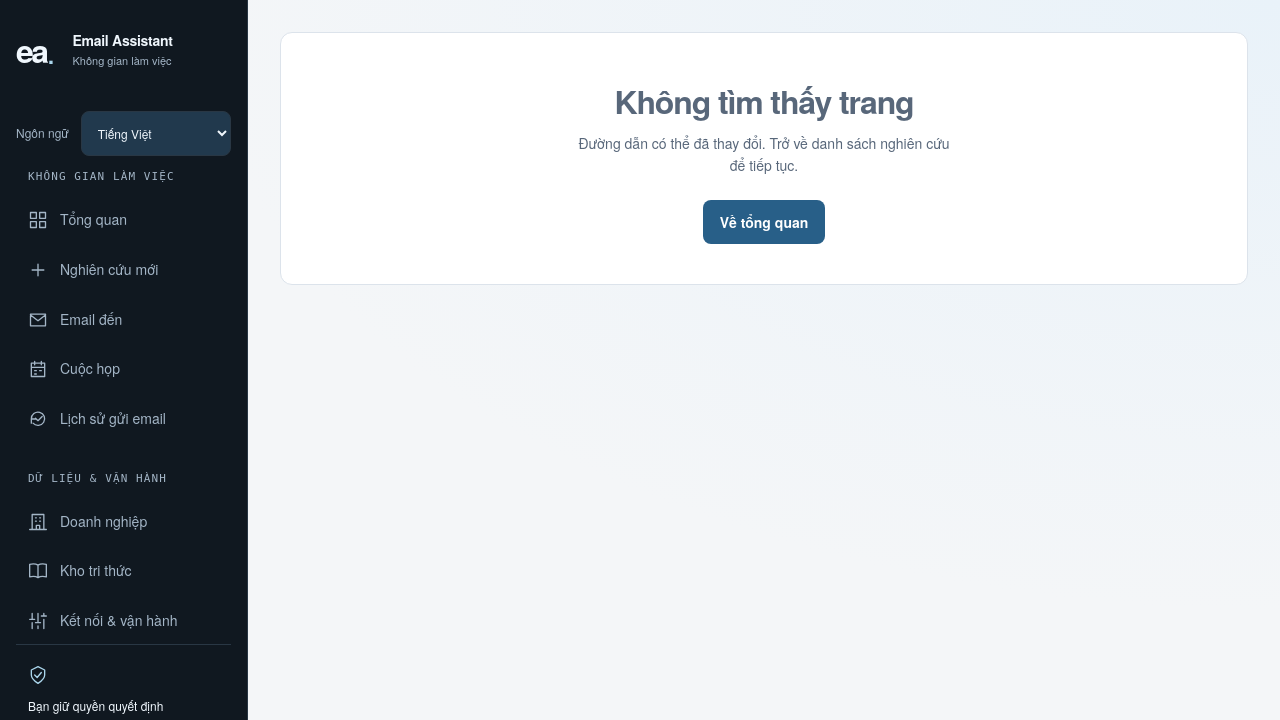
Scenario: navigation menu keyboard behavior › offers a route back from an unknown URL
Check: the heading "Không tìm thấy trang" is shown, box [614, 78, 914, 124]
Click the link "Về tổng quan".
click(764, 222)  # box [703, 200, 825, 244]
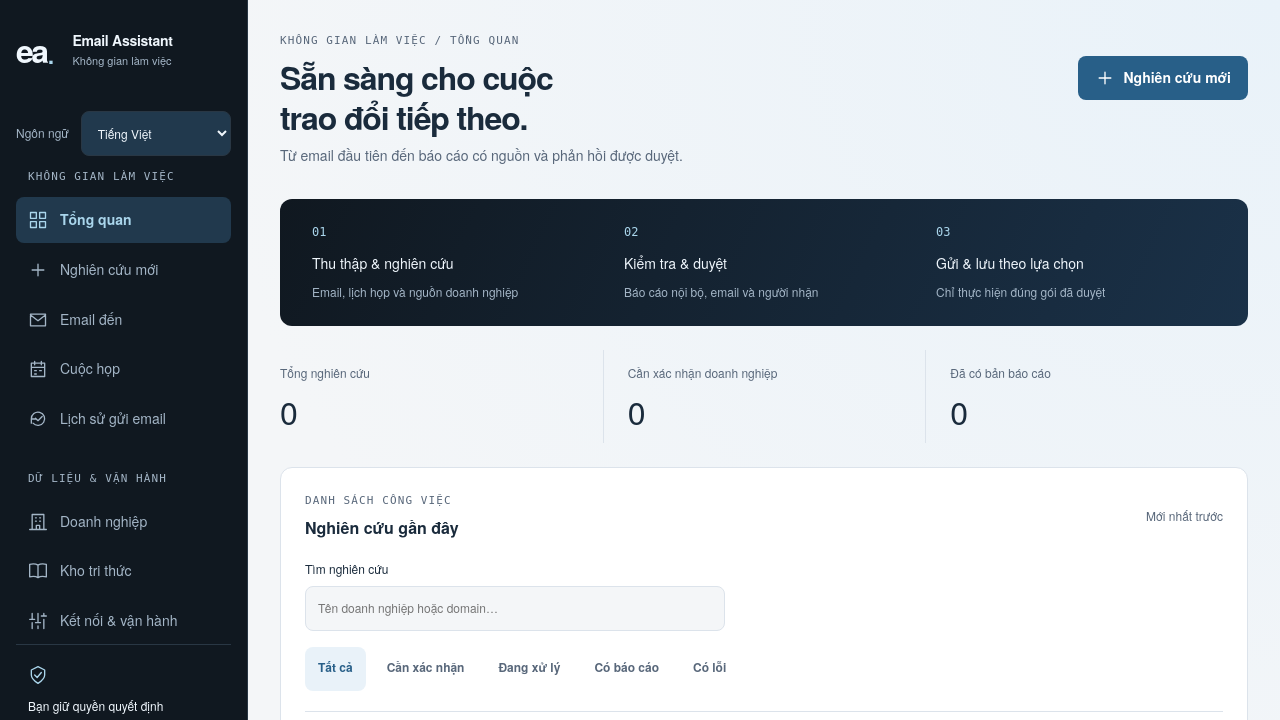
Check: the heading "Sẵn sàng cho cuộc trao đổi tiếp theo." is shown, box [280, 54, 553, 140]
